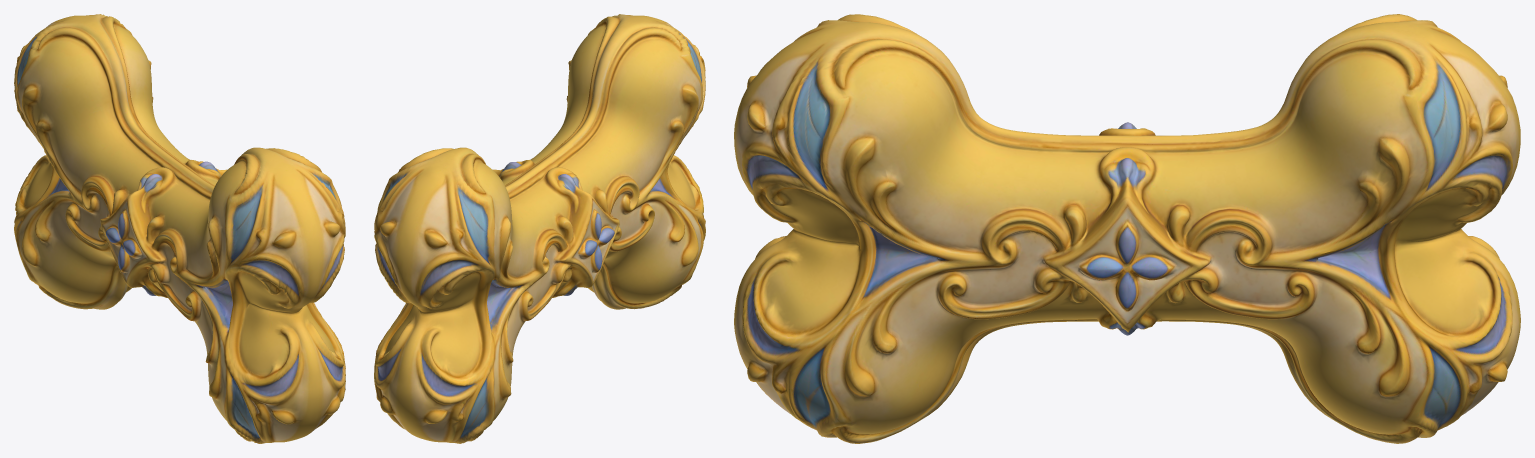
3 renders of one model, left to right at view 1: azimuth 30°, elevation 25°; view 2: azimuth 150°, elevation 25°; view 3: azimuth 270°, elevation 25°, orthographic. The views are drawn at different scales.
Visible parts, largest first — view 1: tripo_node_70c56bee-8958-409d-bbc6-b06364adf939; view 2: tripo_node_70c56bee-8958-409d-bbc6-b06364adf939; view 3: tripo_node_70c56bee-8958-409d-bbc6-b06364adf939.
Boxes of the visible parts, x1,y1,x2,y2 form: tripo_node_70c56bee-8958-409d-bbc6-b06364adf939: (14, 14, 345, 443); tripo_node_70c56bee-8958-409d-bbc6-b06364adf939: (374, 14, 705, 443); tripo_node_70c56bee-8958-409d-bbc6-b06364adf939: (734, 14, 1520, 443).
Bounding box in the file's own units: 0.2663 × 0.5565 × 0.9794.
1 material, 1 textured.
